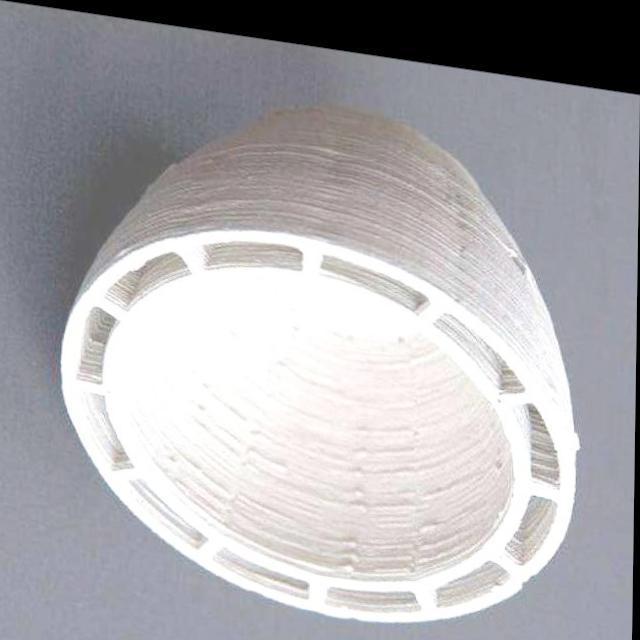zits: (350, 481, 372, 506), (346, 520, 364, 546), (276, 348, 296, 371), (168, 444, 188, 466), (338, 548, 358, 568), (346, 534, 368, 552), (351, 446, 368, 467), (349, 470, 368, 488), (352, 432, 368, 449)
